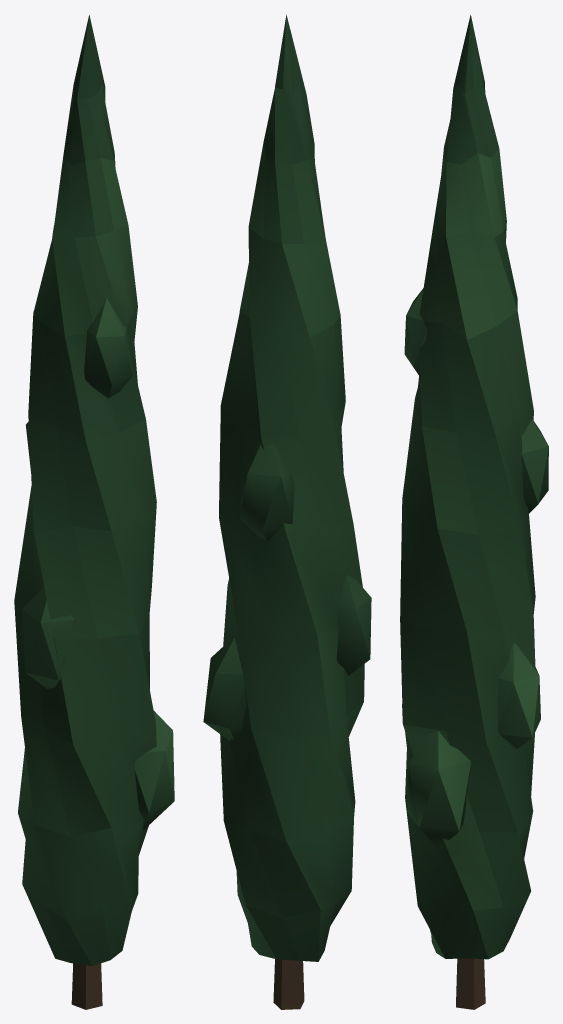
Rendered from plaza-cypress.glb.
The picture shows the model from 3 angles, left to right: view 1: azimuth 30°, elevation 25°; view 2: azimuth 150°, elevation 25°; view 3: azimuth 270°, elevation 25°; orthographic projection.
Visible parts, largest first — view 1: cypress; view 2: cypress; view 3: cypress.
Part boxes in pixels (x1=…): cypress: x1=14, y1=15, x2=174, y2=1009; cypress: x1=203, y1=14, x2=371, y2=1009; cypress: x1=400, y1=15, x2=548, y2=1009.
Bounding box in the file's own units: 1.2 × 8 × 1.09.
